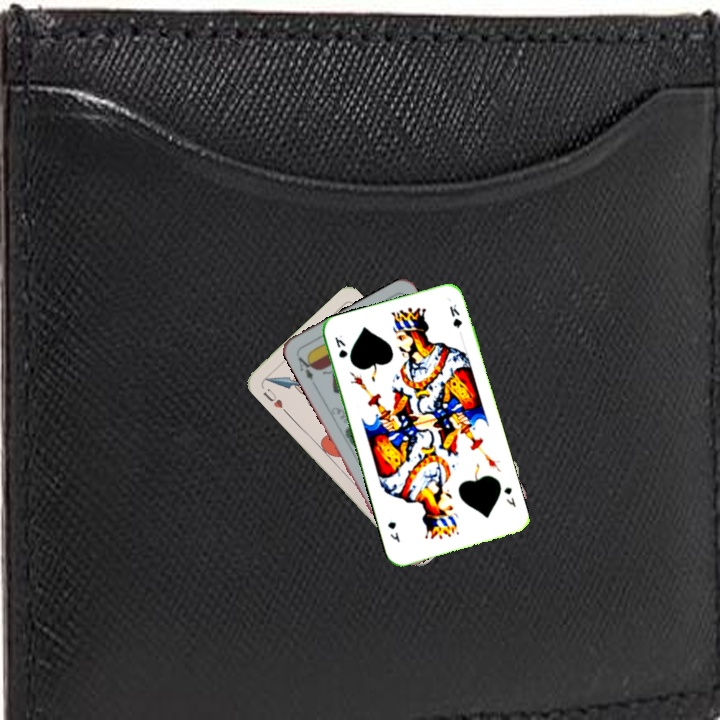EA: (293, 350, 317, 383)
GK: (330, 331, 350, 360), (500, 483, 519, 510)
HU: (259, 385, 290, 415)
